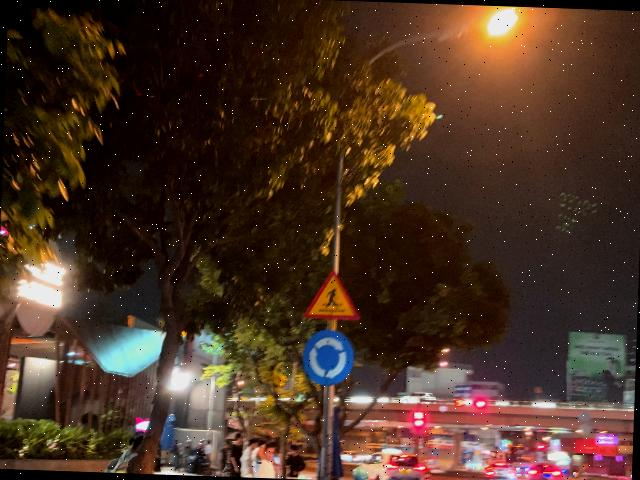duong-nguoi-di-bo-cat-ngang: (304, 266, 362, 320)
noi-giao-nhau-chay-theo-vong-xuyen: (302, 328, 356, 386)
